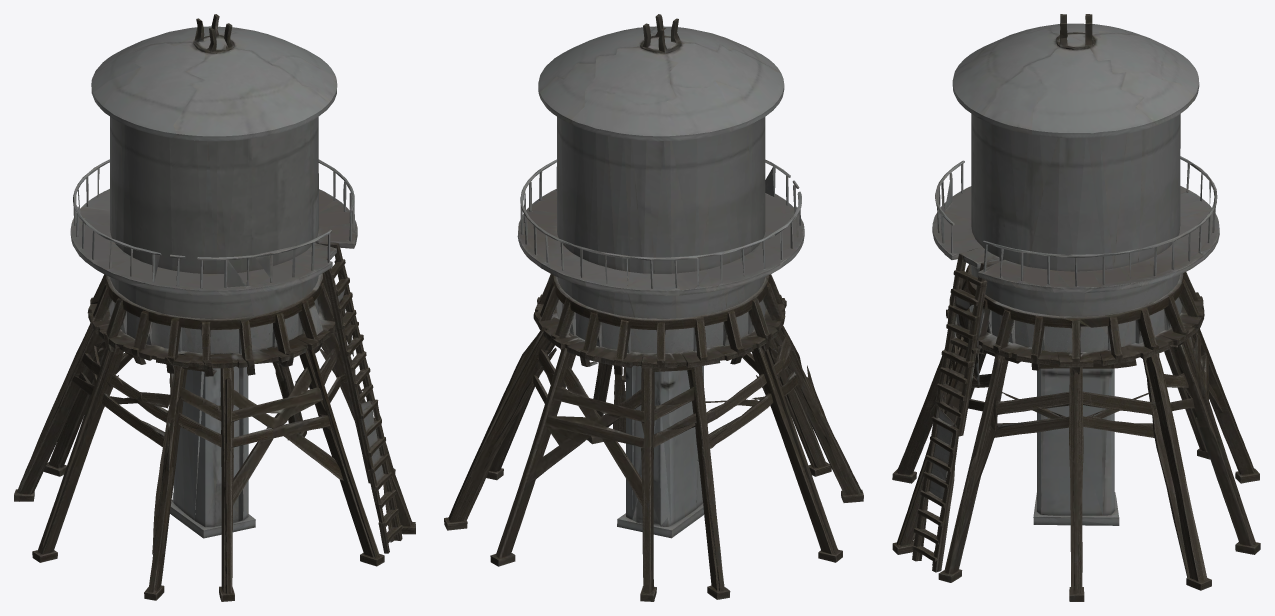
File: felwatertower.glb
3 renders of one model, left to right at view 1: azimuth 30°, elevation 25°; view 2: azimuth 150°, elevation 25°; view 3: azimuth 270°, elevation 25°, orthographic.
Visible parts, largest first — view 1: felwatertower-centred; view 2: felwatertower-centred; view 3: felwatertower-centred.
Part boxes in pixels (<box>): felwatertower-centred: <box>14,14,415,601</box>; felwatertower-centred: <box>444,14,863,601</box>; felwatertower-centred: <box>892,14,1260,601</box>.
Bounding box in the file's own units: 10.55 × 14 × 9.41.
1 material, 1 textured.
